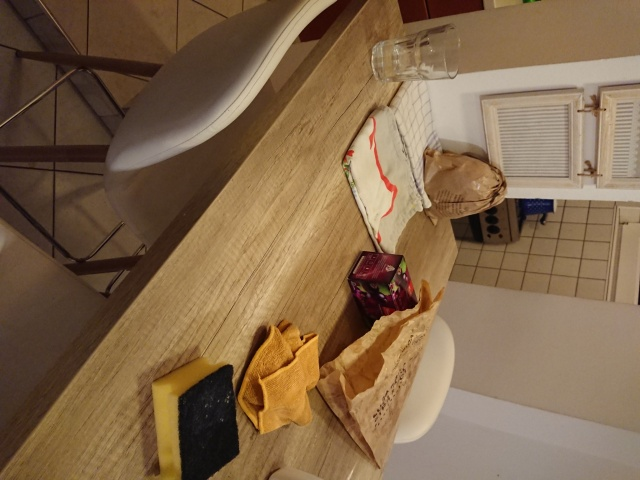Franck Black Currant Tea 60g: (345, 249, 426, 335)
